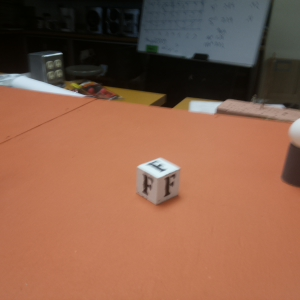blockF: (136, 155, 183, 206)
obstacle: (281, 115, 300, 187)
